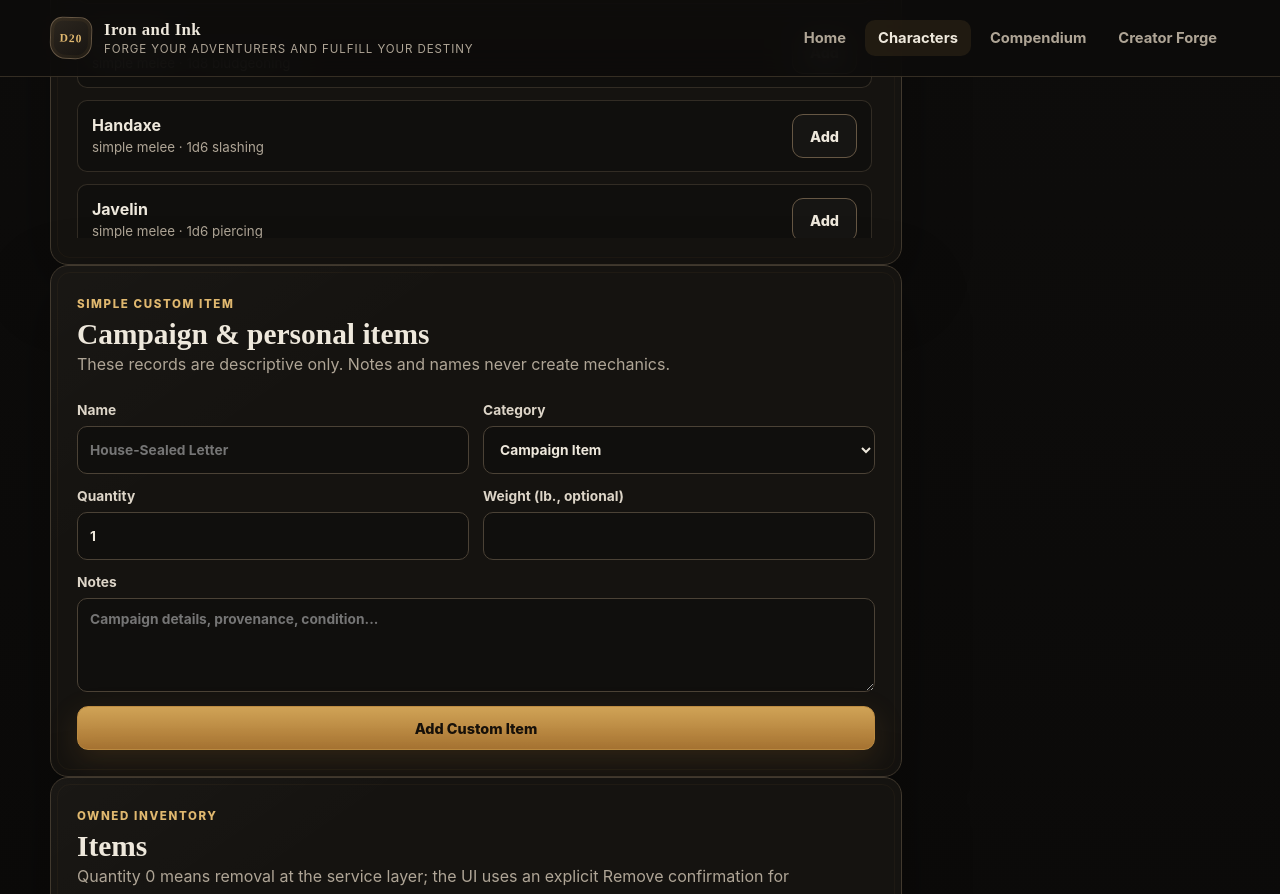
Project Persistence Phase E › 28. successful Character publication updates mounted Inventory consumer
(page scrolled)
Type "Silver Token" into the field named "Custom item name" at [273, 450], box x1=77 y1=426 x2=469 y2=474
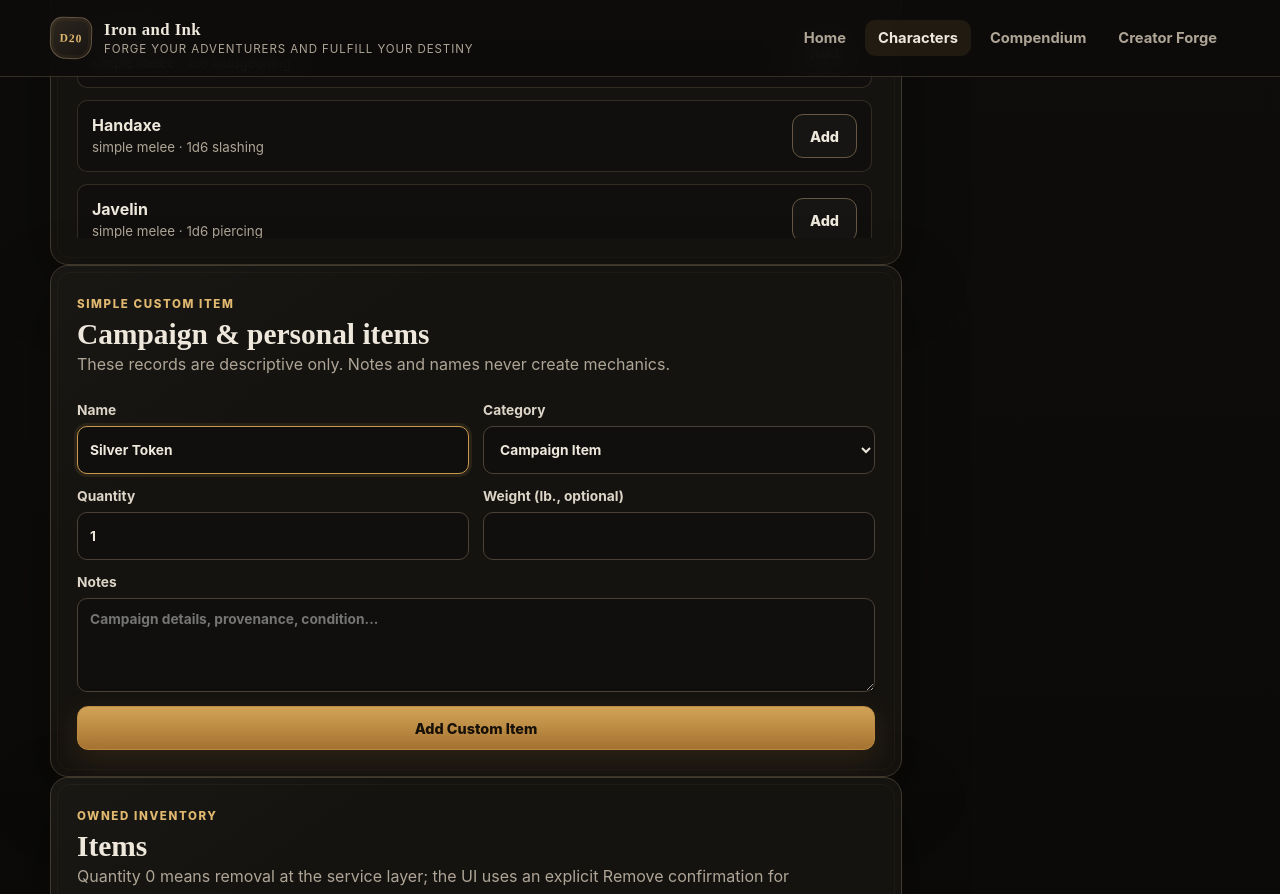
Click the button "Add Custom Item" at [476, 728], box x1=77 y1=706 x2=875 y2=750
(page scrolled)
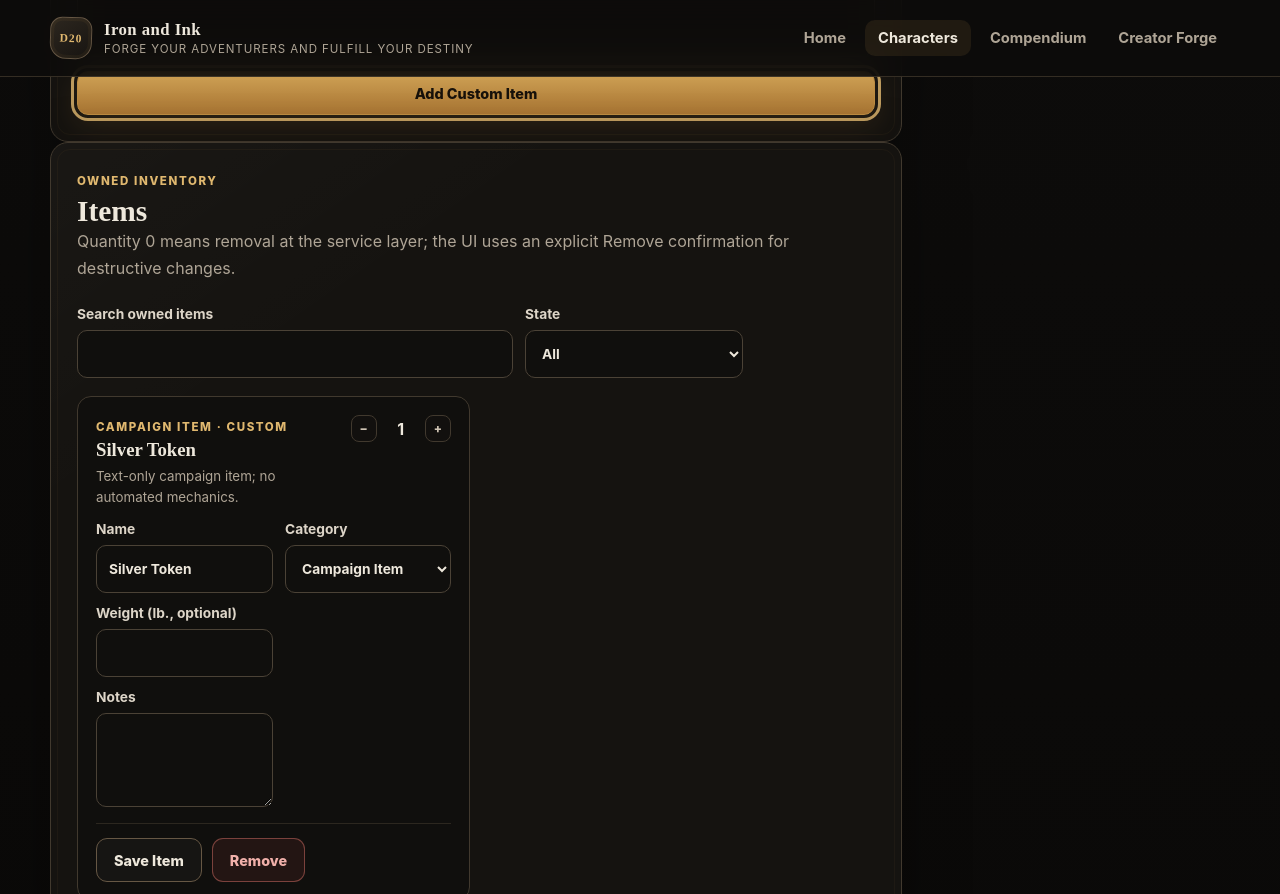
Check: the heading "Silver Token" is shown, box x1=96 y1=439 x2=196 y2=460
